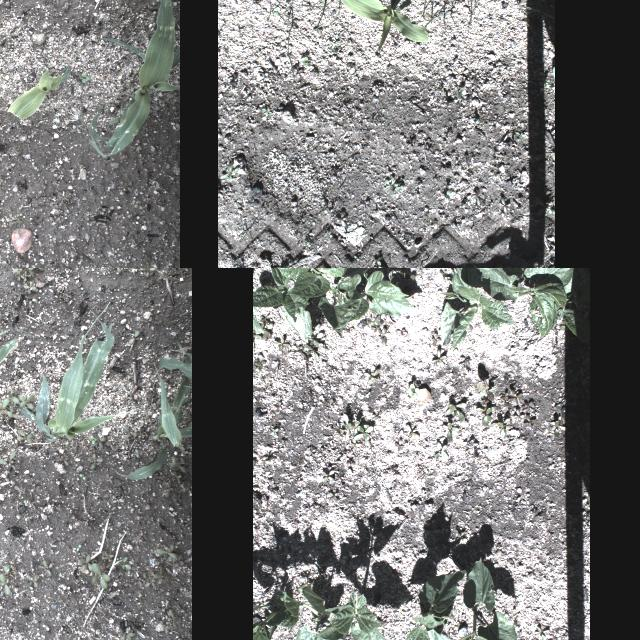crop: (17, 303, 138, 441), (73, 0, 177, 158), (115, 340, 191, 480), (475, 268, 573, 338), (443, 555, 519, 640), (438, 268, 513, 349), (332, 270, 418, 330), (394, 568, 465, 640), (335, 0, 431, 51), (252, 268, 312, 342), (314, 588, 399, 640), (317, 268, 375, 337), (4, 67, 74, 119), (266, 584, 330, 640), (263, 268, 343, 297), (563, 268, 588, 310), (560, 309, 588, 343), (252, 602, 276, 640), (252, 313, 264, 333), (252, 305, 258, 311)
weed: (294, 0, 339, 33), (517, 0, 553, 34), (278, 13, 292, 72), (90, 557, 110, 589), (476, 395, 496, 425), (6, 206, 24, 234), (476, 381, 499, 401), (0, 450, 18, 475), (491, 418, 512, 438), (151, 564, 171, 584), (446, 402, 466, 422), (154, 543, 178, 559), (384, 177, 404, 196), (219, 162, 239, 180), (170, 454, 188, 474), (352, 424, 373, 440), (37, 559, 55, 577), (441, 422, 459, 440), (0, 396, 13, 420), (17, 268, 43, 280), (0, 563, 9, 595), (78, 554, 94, 572), (16, 428, 34, 444), (17, 394, 35, 410), (363, 367, 379, 385), (306, 330, 324, 346), (434, 439, 448, 459), (432, 348, 446, 368), (76, 68, 92, 84), (90, 432, 106, 448), (534, 624, 550, 640), (404, 422, 420, 438), (112, 557, 132, 569), (341, 412, 351, 436), (445, 403, 465, 415), (270, 338, 290, 350), (24, 572, 38, 588), (6, 388, 20, 404), (345, 420, 359, 436), (507, 390, 523, 404), (512, 407, 528, 421), (468, 0, 480, 18), (180, 408, 192, 426), (422, 528, 440, 540), (167, 608, 177, 628), (132, 197, 146, 211), (328, 40, 342, 54), (124, 425, 138, 439), (23, 280, 37, 294), (348, 437, 362, 451), (304, 344, 318, 358), (318, 469, 334, 481), (554, 420, 566, 436), (524, 414, 536, 430), (253, 354, 264, 371), (452, 85, 466, 98), (378, 328, 389, 344), (260, 106, 274, 118), (238, 228, 252, 240), (12, 484, 26, 496), (157, 394, 171, 406), (128, 330, 140, 344), (454, 530, 468, 542), (406, 382, 418, 396), (520, 400, 534, 412), (164, 481, 174, 497), (259, 312, 269, 328), (431, 332, 442, 346), (498, 196, 507, 212), (132, 574, 144, 586), (144, 575, 156, 587), (172, 554, 184, 566), (7, 395, 16, 411), (140, 268, 156, 277), (336, 212, 346, 226), (290, 64, 304, 74), (172, 470, 182, 484), (262, 455, 276, 465), (118, 631, 133, 640), (332, 422, 343, 434), (363, 423, 369, 445), (499, 392, 508, 406), (20, 270, 30, 282), (260, 328, 270, 340), (311, 319, 321, 331), (394, 438, 404, 450), (546, 200, 554, 214), (444, 188, 452, 202), (319, 200, 327, 214), (105, 558, 116, 568), (59, 457, 70, 467), (89, 462, 101, 471), (166, 268, 184, 274), (123, 577, 133, 587), (172, 492, 182, 502), (328, 490, 338, 500), (252, 330, 262, 340), (514, 130, 526, 138), (472, 187, 478, 203), (102, 552, 114, 560), (163, 268, 171, 280), (372, 259, 382, 268), (374, 312, 381, 324), (436, 86, 446, 94), (300, 56, 308, 66), (56, 536, 66, 544), (136, 532, 144, 542), (88, 434, 96, 444), (15, 474, 23, 484), (145, 414, 153, 424), (407, 274, 415, 284), (11, 268, 26, 273), (272, 7, 280, 16), (182, 482, 190, 491), (13, 442, 21, 451), (395, 328, 407, 334), (370, 326, 382, 332), (366, 314, 372, 326), (324, 229, 332, 237), (38, 570, 46, 578), (78, 472, 86, 480), (92, 452, 96, 468), (269, 427, 277, 435), (10, 564, 16, 574), (90, 554, 96, 564), (134, 448, 140, 458), (390, 312, 400, 318), (345, 460, 355, 466), (45, 0, 59, 4), (88, 456, 102, 460), (252, 459, 258, 468), (111, 268, 121, 273), (352, 254, 360, 260), (74, 544, 82, 550), (74, 552, 82, 558), (22, 498, 28, 506), (136, 400, 144, 406), (389, 276, 395, 284), (178, 636, 188, 640), (179, 268, 189, 272), (292, 344, 298, 350), (14, 424, 22, 428), (552, 66, 554, 78), (552, 82, 554, 92), (306, 242, 310, 246), (252, 340, 254, 348)
